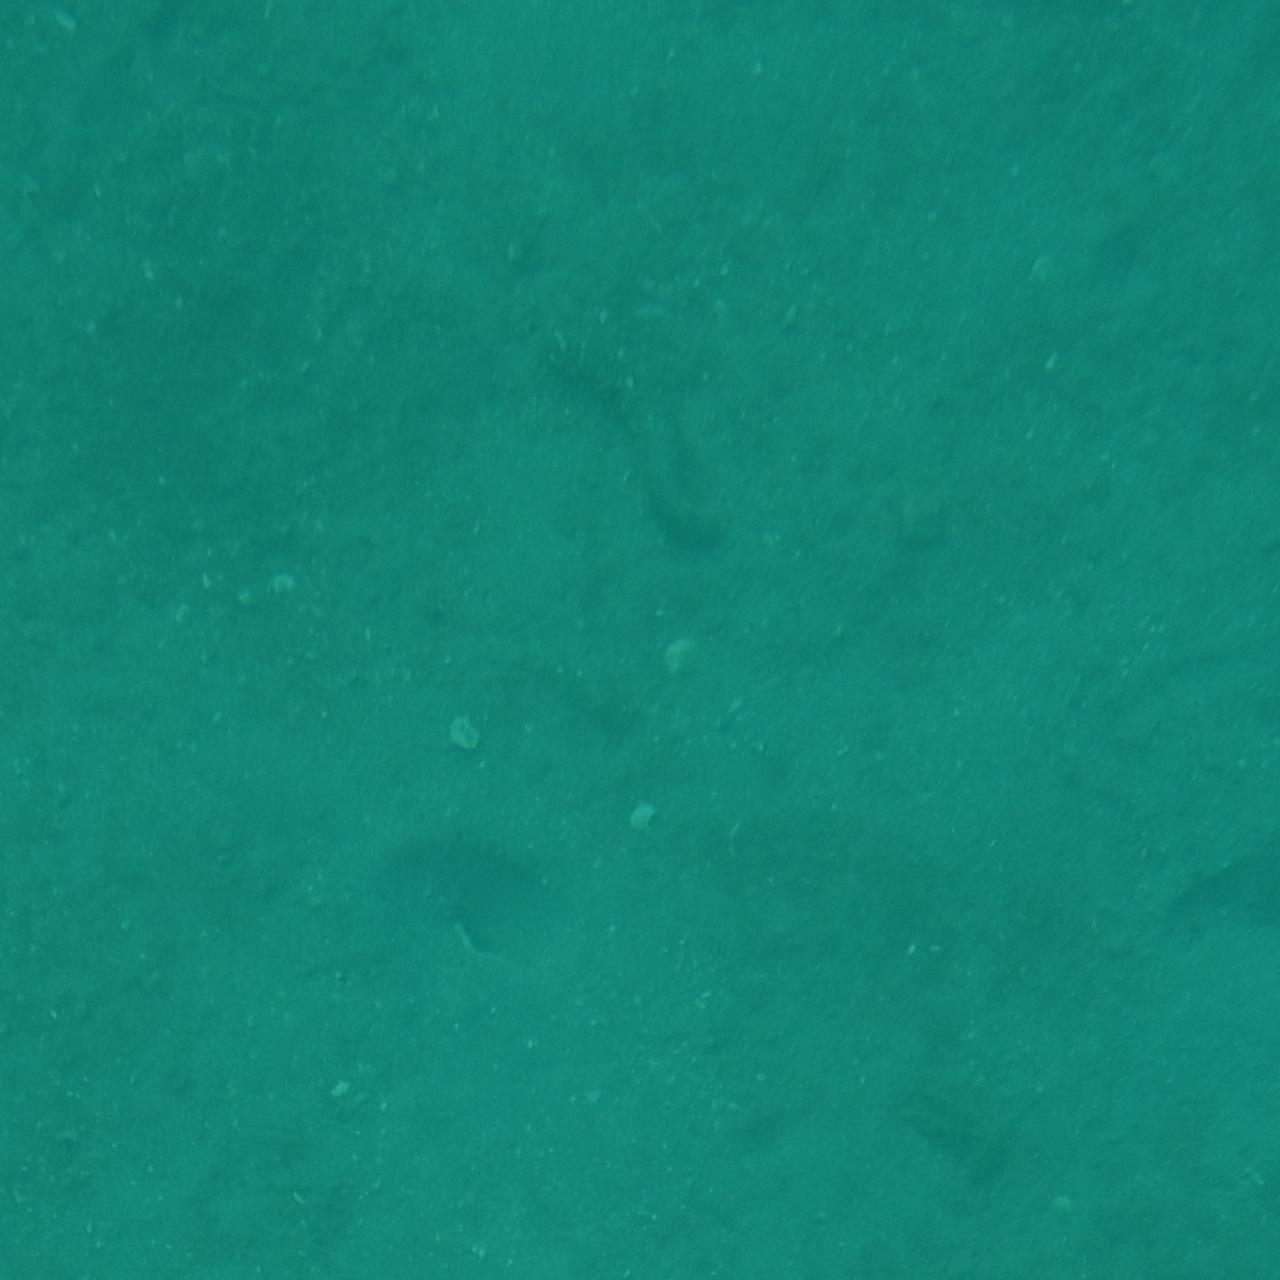Holothuria tubulosa: (529, 322, 751, 564)
